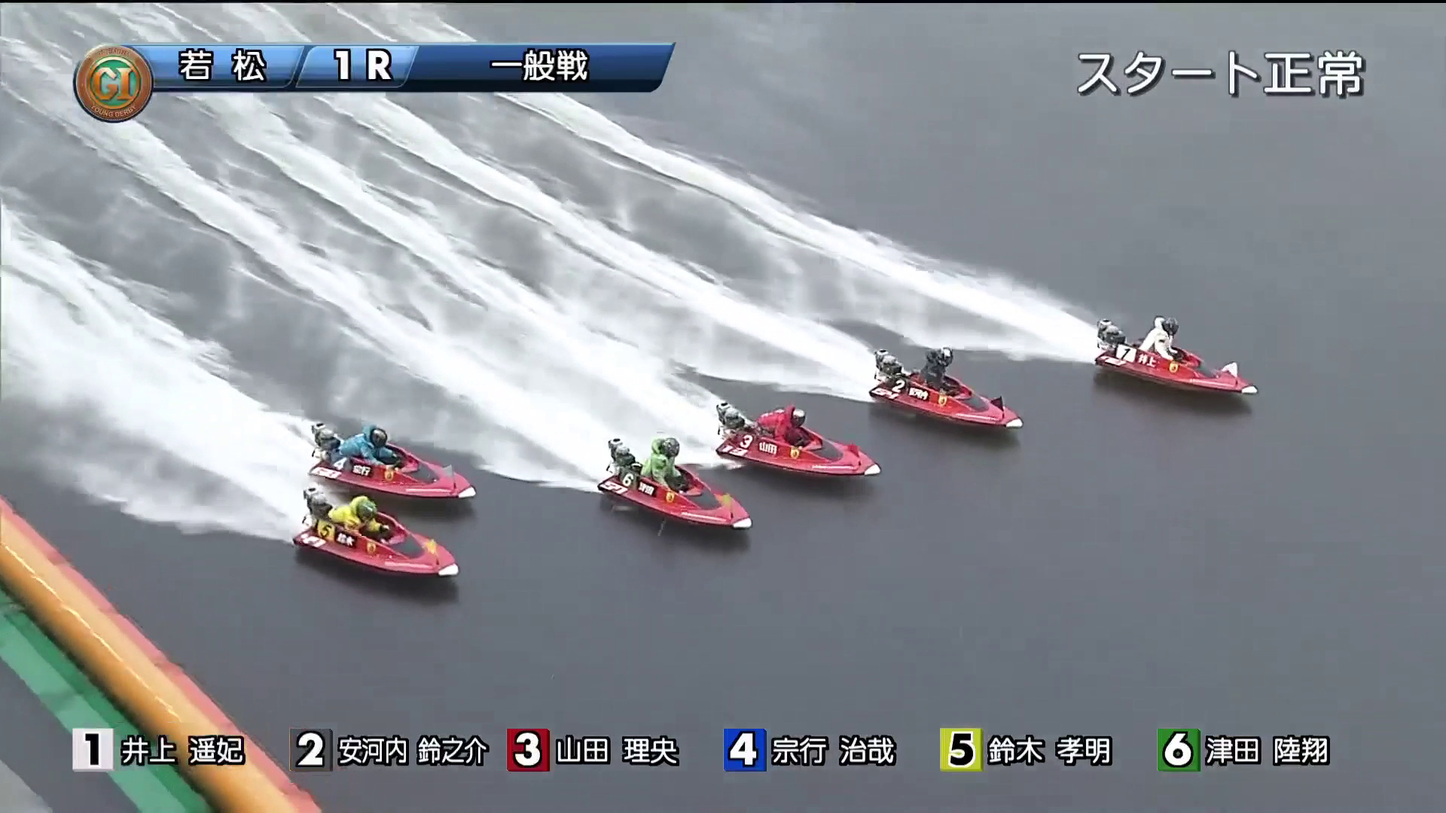１号艇: (1103, 341, 1239, 394)
２号艇: (879, 360, 1006, 419)
３号艇: (744, 425, 883, 467)
４号艇: (619, 458, 739, 523)
５号艇: (330, 436, 453, 491)
６号艇: (352, 525, 451, 582)
